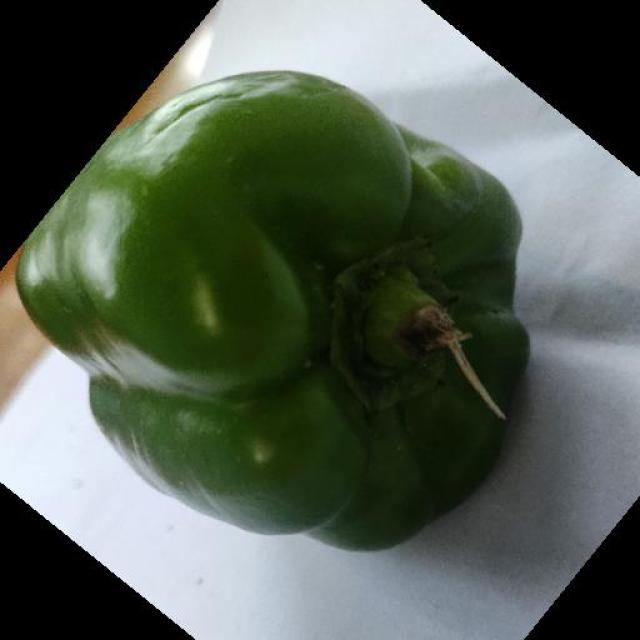Fresh_Capsicum: (94, 123, 526, 461)
